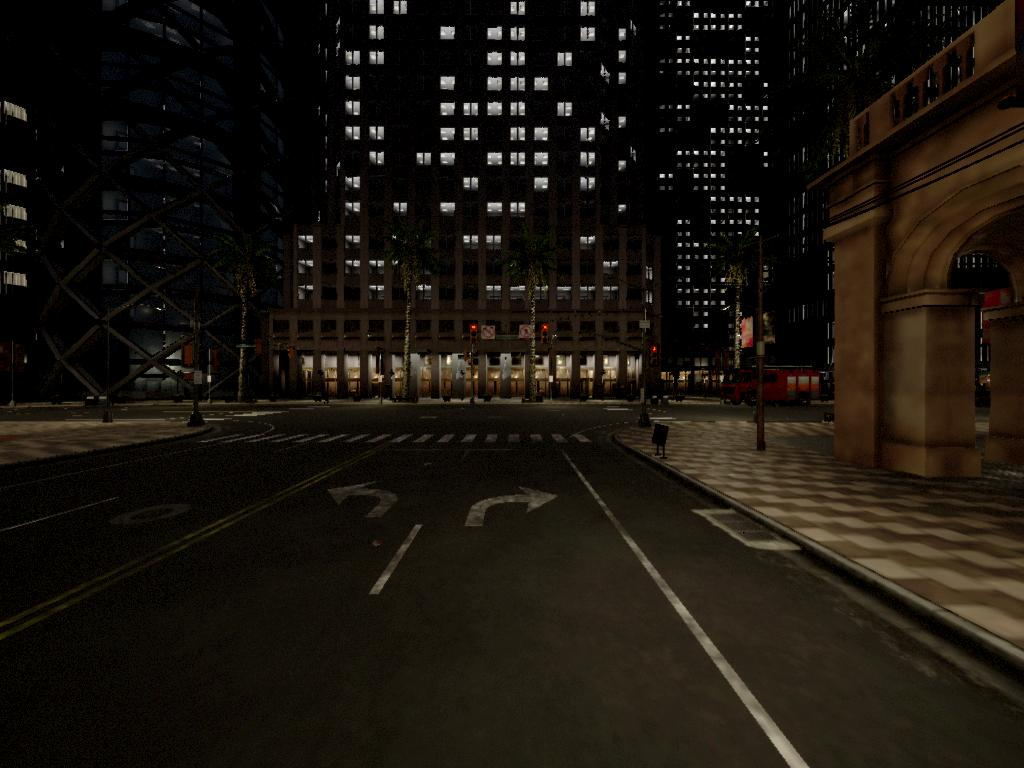traffic_light: (648, 345, 662, 368), (470, 323, 483, 342), (542, 325, 551, 342)
